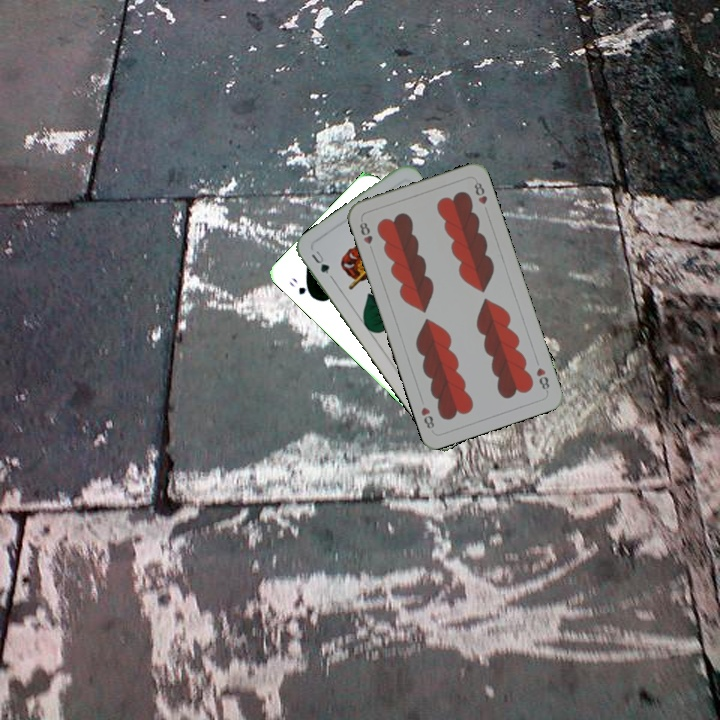GO: (285, 273, 317, 301)
GU: (307, 245, 332, 277)
H8: (355, 218, 376, 255), (532, 364, 552, 395)
